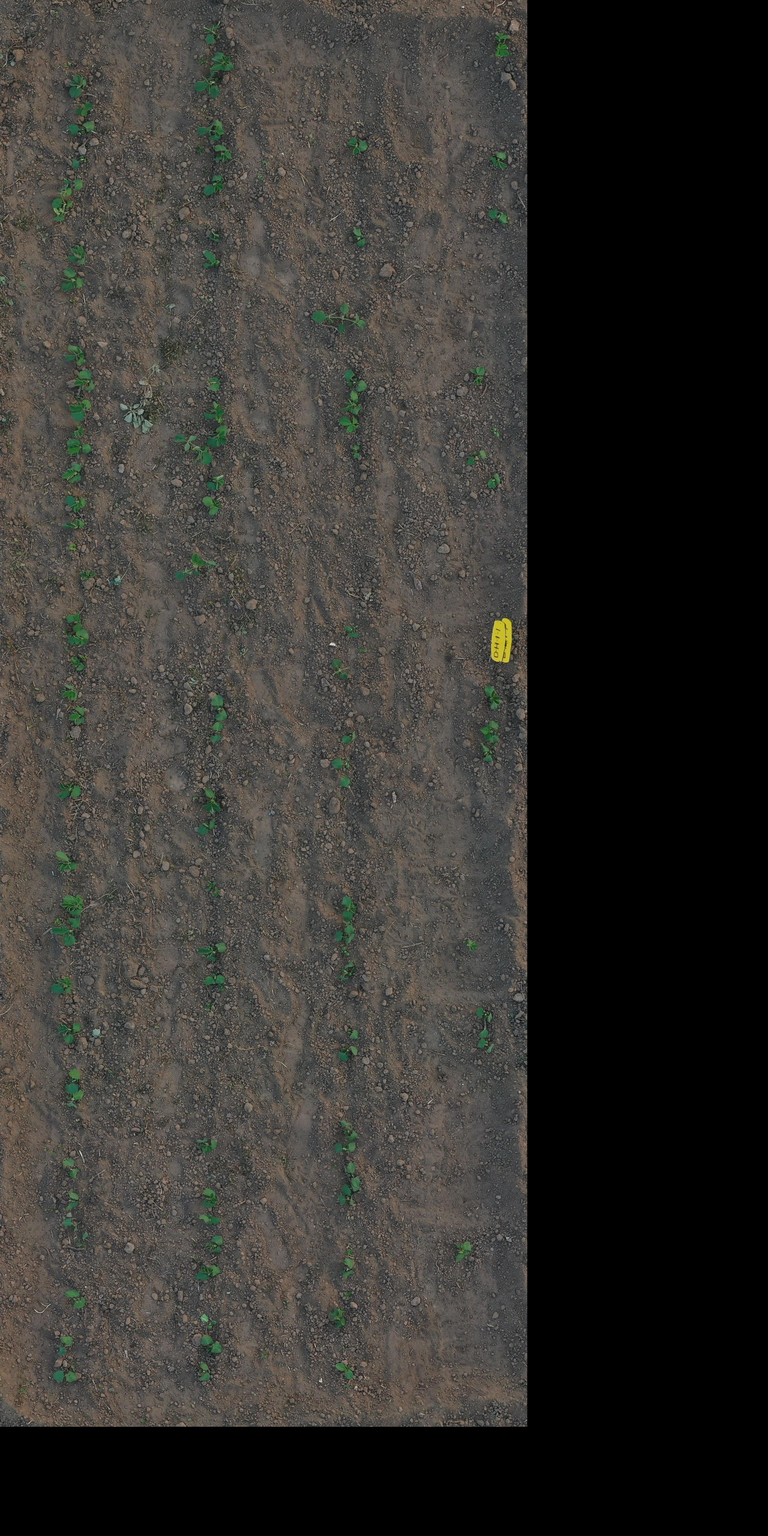s: (311, 302, 366, 334), (174, 434, 214, 466), (175, 553, 220, 581), (52, 917, 80, 947), (51, 183, 73, 221), (194, 69, 220, 100), (196, 120, 224, 142), (339, 390, 363, 415), (197, 942, 227, 962), (61, 268, 84, 292), (68, 399, 92, 422), (343, 370, 368, 392), (60, 894, 84, 916), (54, 851, 79, 872), (206, 425, 228, 448), (58, 1024, 82, 1045), (66, 438, 92, 457), (202, 788, 221, 814), (203, 401, 225, 423), (203, 174, 224, 197), (68, 623, 89, 646), (210, 52, 234, 72), (210, 695, 228, 721), (64, 345, 86, 366), (74, 369, 95, 391), (60, 463, 82, 484), (480, 720, 500, 743), (56, 782, 81, 800), (64, 1289, 86, 1309), (200, 1334, 222, 1354), (68, 74, 86, 98), (203, 20, 221, 44), (50, 976, 74, 994), (65, 1068, 80, 1096), (484, 686, 501, 710), (341, 896, 357, 921), (331, 658, 349, 680), (67, 121, 95, 135), (212, 144, 232, 163), (67, 245, 86, 265), (348, 137, 368, 156), (202, 496, 221, 516), (65, 1089, 84, 1109), (337, 961, 355, 982), (62, 1158, 80, 1179), (340, 1120, 358, 1141), (195, 1265, 220, 1280), (64, 495, 86, 512), (196, 1138, 218, 1155), (455, 1241, 472, 1263), (338, 417, 361, 433), (346, 1162, 360, 1188), (334, 1362, 354, 1380), (329, 1308, 346, 1329), (466, 450, 488, 466), (206, 474, 225, 492), (204, 1235, 223, 1253), (68, 706, 85, 726), (201, 1188, 218, 1208), (337, 1046, 358, 1062), (52, 1370, 77, 1383), (490, 152, 507, 171), (197, 818, 216, 835), (340, 1181, 362, 1195), (203, 250, 220, 268), (58, 1336, 74, 1355), (488, 209, 508, 224), (470, 366, 485, 386), (209, 722, 223, 743), (334, 930, 355, 944), (340, 1258, 354, 1279), (202, 973, 226, 985), (475, 1007, 493, 1023), (198, 1214, 222, 1226), (74, 102, 94, 116), (480, 742, 493, 763), (66, 1190, 79, 1211), (61, 684, 78, 700), (352, 228, 366, 247), (63, 178, 83, 191), (198, 1362, 211, 1382), (206, 376, 222, 392), (333, 1142, 356, 1153), (61, 519, 85, 529), (487, 472, 501, 489), (61, 1218, 78, 1232), (336, 1194, 355, 1206), (71, 155, 87, 169), (71, 656, 85, 671), (341, 730, 356, 744), (478, 1029, 488, 1049), (495, 42, 509, 56), (331, 758, 350, 768), (344, 626, 359, 638), (65, 612, 81, 623), (70, 426, 84, 438), (340, 776, 352, 790), (342, 920, 354, 934), (464, 940, 478, 952), (346, 1028, 359, 1040), (494, 32, 509, 42), (208, 230, 220, 242), (352, 444, 360, 458), (206, 1320, 217, 1330), (486, 1043, 495, 1054), (341, 946, 350, 956), (492, 427, 500, 437), (345, 1248, 353, 1256), (75, 396, 83, 402)
